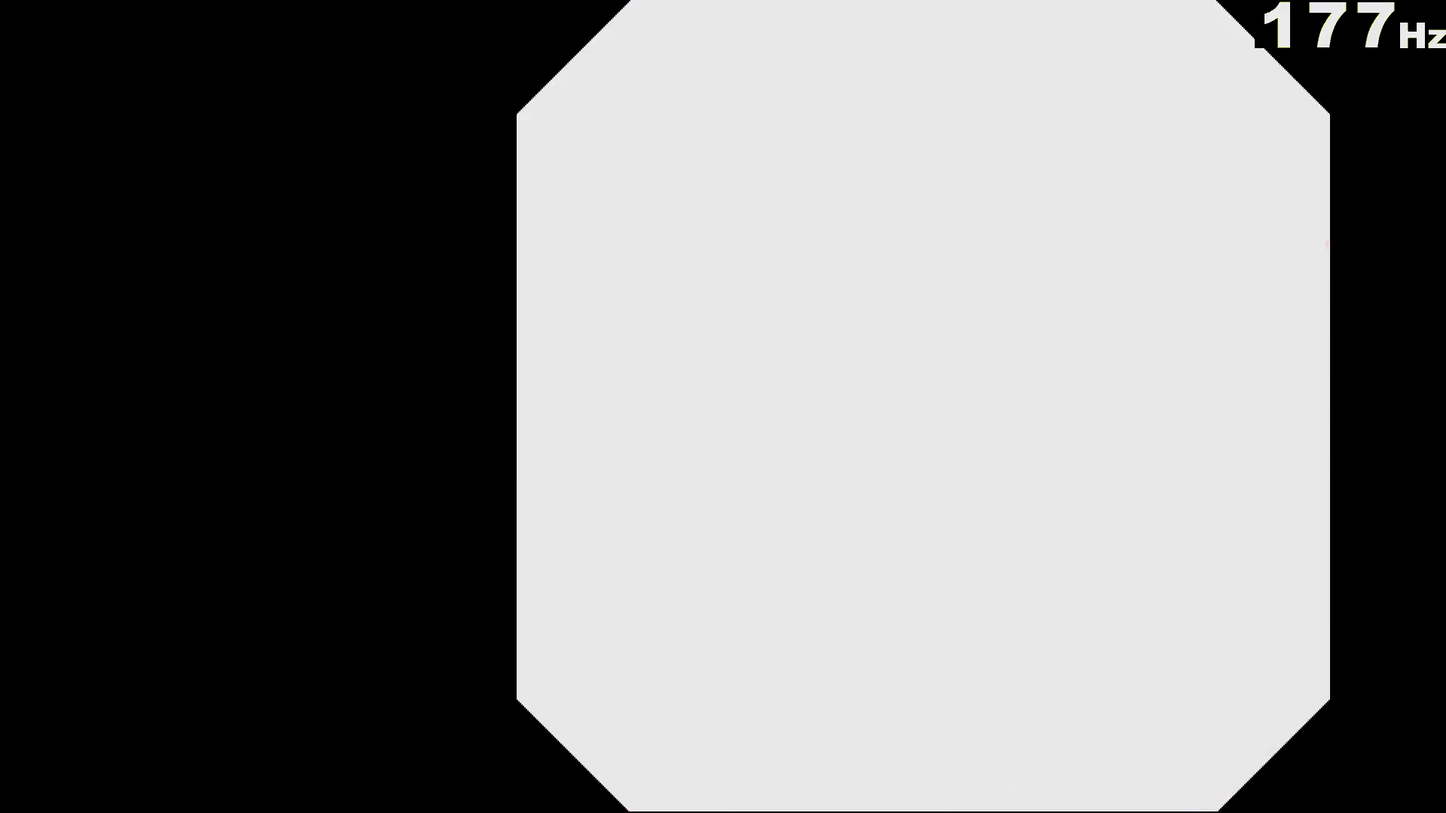epiglottis: (750, 264, 1311, 534)
trachea: (983, 216, 1130, 371)
